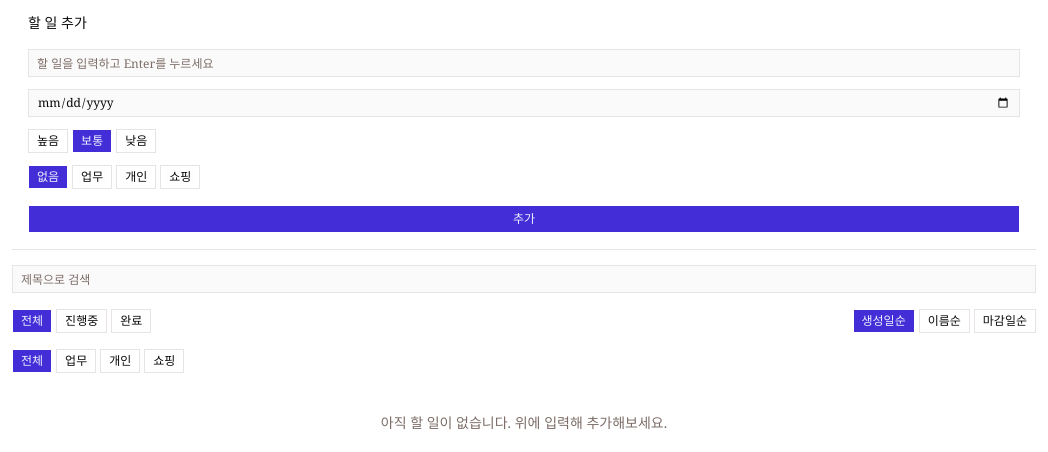
Scenario: Todo 필터링 › 항목이 있어도 필터 결과가 비면 '할 일이 없습니다' 메시지 표시
The image size is (1048, 452).
Type "할일1" into the field named "새 할 일" at {"x": 524, "y": 63}, box [28,49,1020,77]
Then press Enter
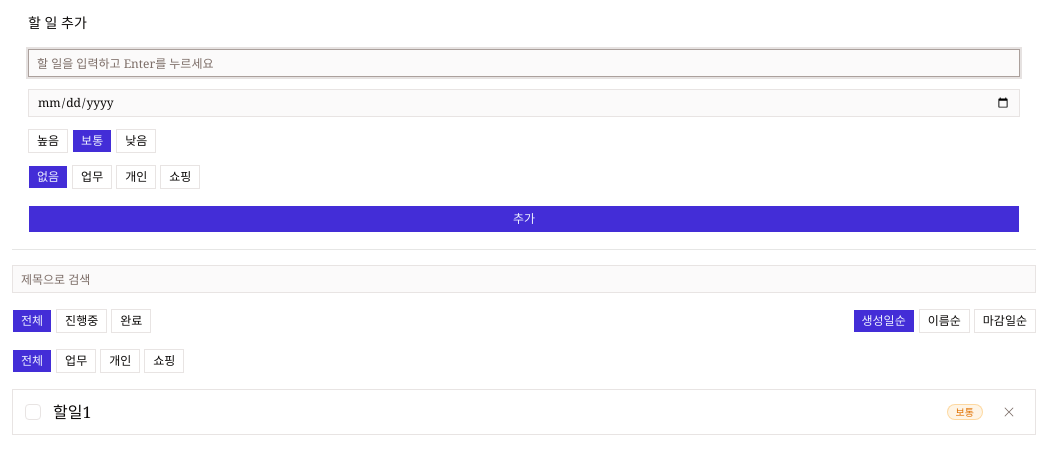
Expected: the text "할일1" is shown, [53,401,91,423]
Click the radio button labelled "완료" at {"x": 131, "y": 321}, box [111,309,151,333]
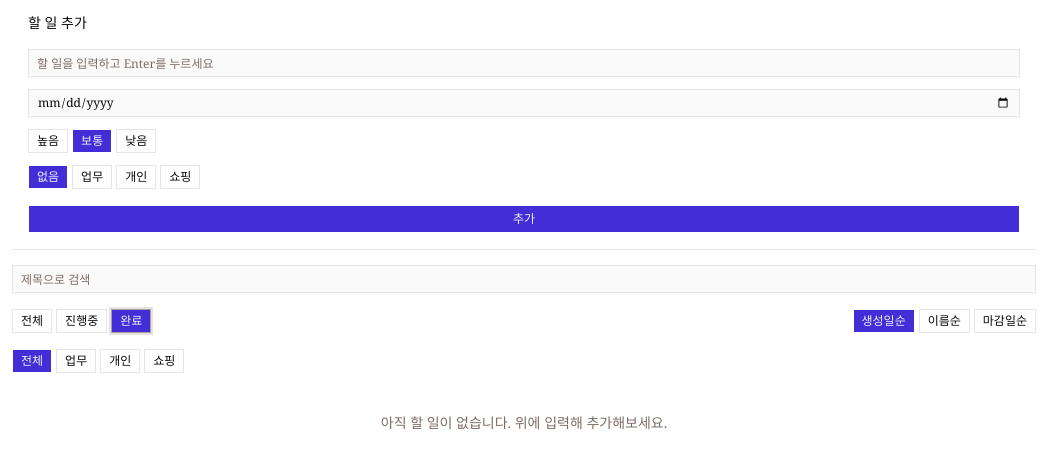
Expected: the text "아직 할 일이 없습니다. 위에 입력해 추가해보세요." is shown, [381,413,667,432]
Expected: the list item "할일1 보통" is gone
